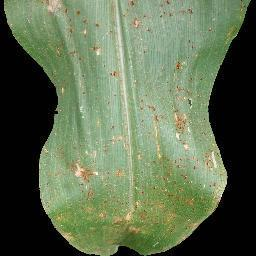Corn_Common_Rust: (40, 0, 248, 142), (34, 142, 141, 256), (141, 141, 230, 256)
